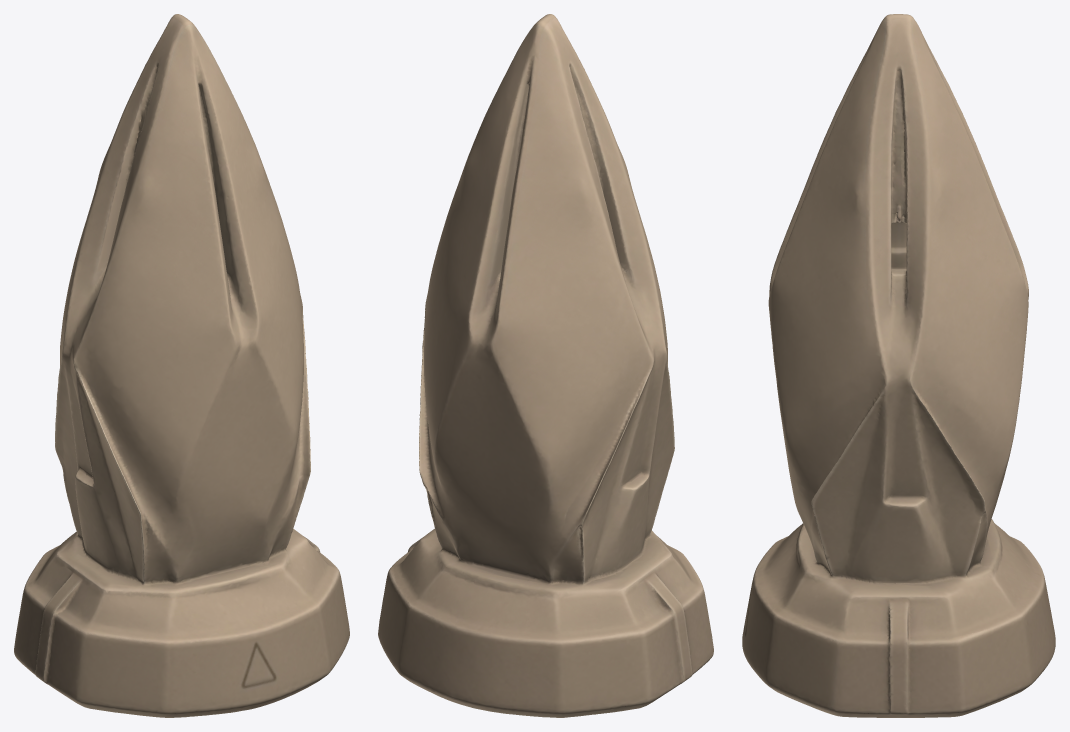
The model's file is Meshy_AI_Silent_Prism_20261027_texture.fbx.
The picture shows the model from 3 angles, left to right: view 1: azimuth 30°, elevation 25°; view 2: azimuth 150°, elevation 25°; view 3: azimuth 270°, elevation 25°; orthographic projection.
Visible parts, largest first — view 1: Mesh_0; view 2: Mesh_0; view 3: Mesh_0.
Boxes of the visible parts, x1,y1,x2,y2 form: Mesh_0: (14,14,349,717); Mesh_0: (378,14,713,717); Mesh_0: (742,14,1055,717).
Size of the model in its own units: 88.46 by 190 by 84.07.
Materials: 1 (1 with a texture image).
